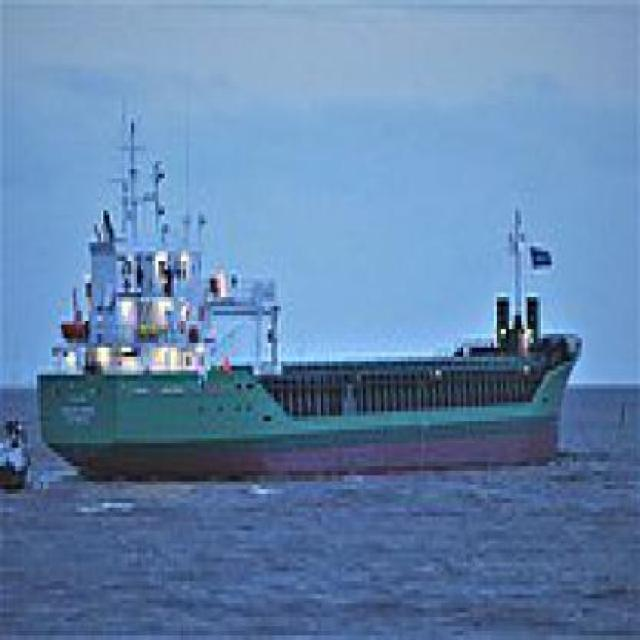container: (34, 87, 590, 500)
